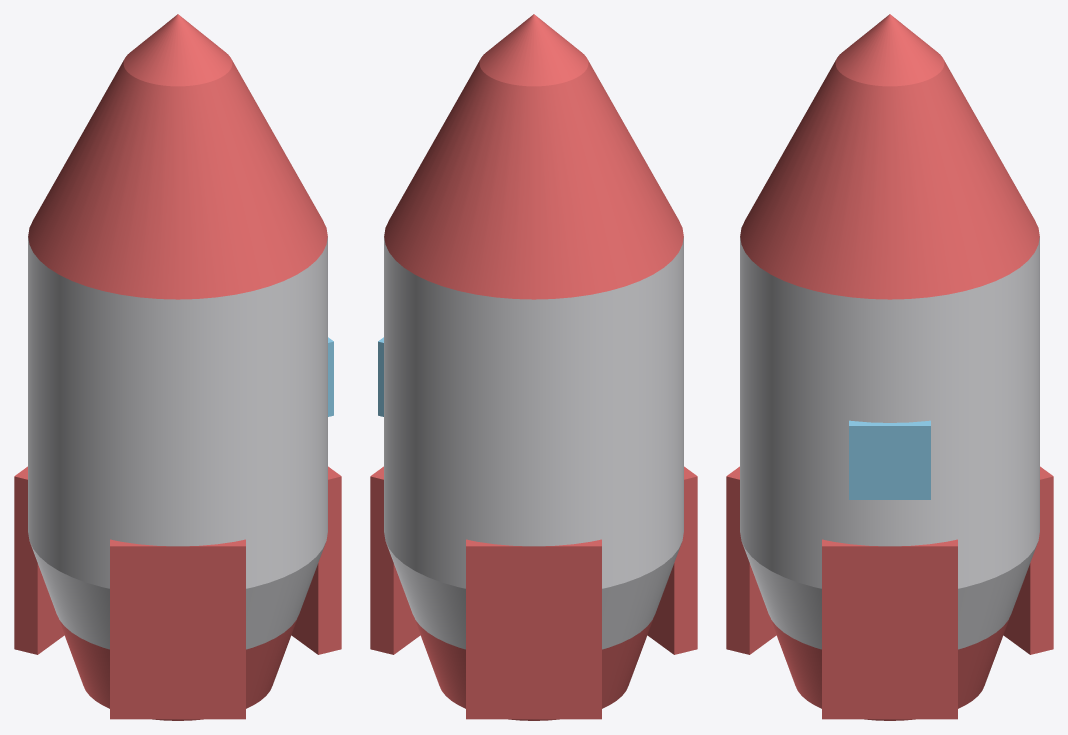
Rendered from rocket.glb.
3 renders of one model, left to right at view 1: azimuth 30°, elevation 25°; view 2: azimuth 150°, elevation 25°; view 3: azimuth 270°, elevation 25°, orthographic.
Parts seen in each view (by area): view 1: rocket; view 2: rocket; view 3: rocket.
Boxes of the visible parts, x1=… form: rocket: x1=14, y1=14, x2=341, y2=720; rocket: x1=370, y1=14, x2=697, y2=720; rocket: x1=726, y1=14, x2=1053, y2=720.
Size of the model in its own units: 0.225 by 0.54 by 0.2405.
